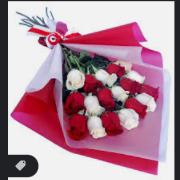RedRose: (63, 113, 91, 142), (101, 111, 125, 136), (62, 90, 86, 112), (104, 59, 128, 80), (81, 74, 106, 91), (96, 87, 115, 109), (126, 98, 145, 118), (122, 78, 141, 92)
